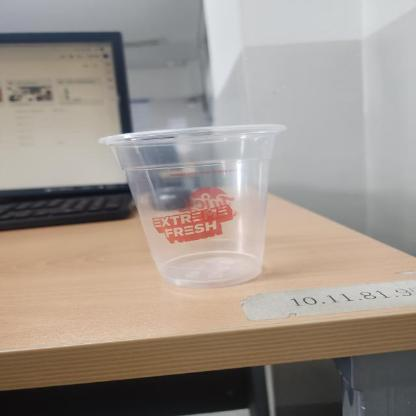Plastic Cup: (98, 122, 286, 290)
